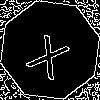X: (25, 25, 77, 82)
